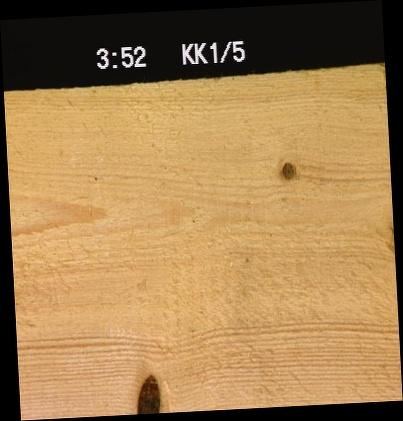sound_knot: (280, 159, 296, 180)
